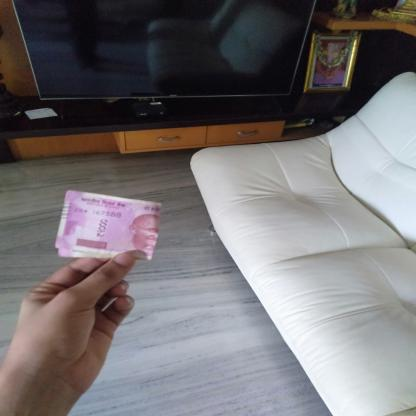New2000Front: (57, 199, 162, 262)
